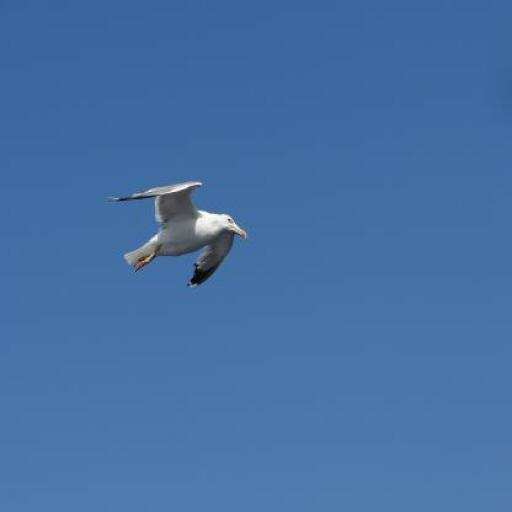bird: (108, 181, 248, 288)
